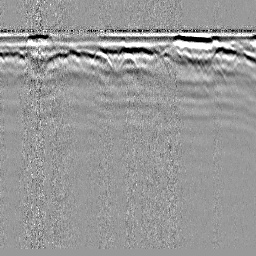cavity: (116, 52, 138, 69)
